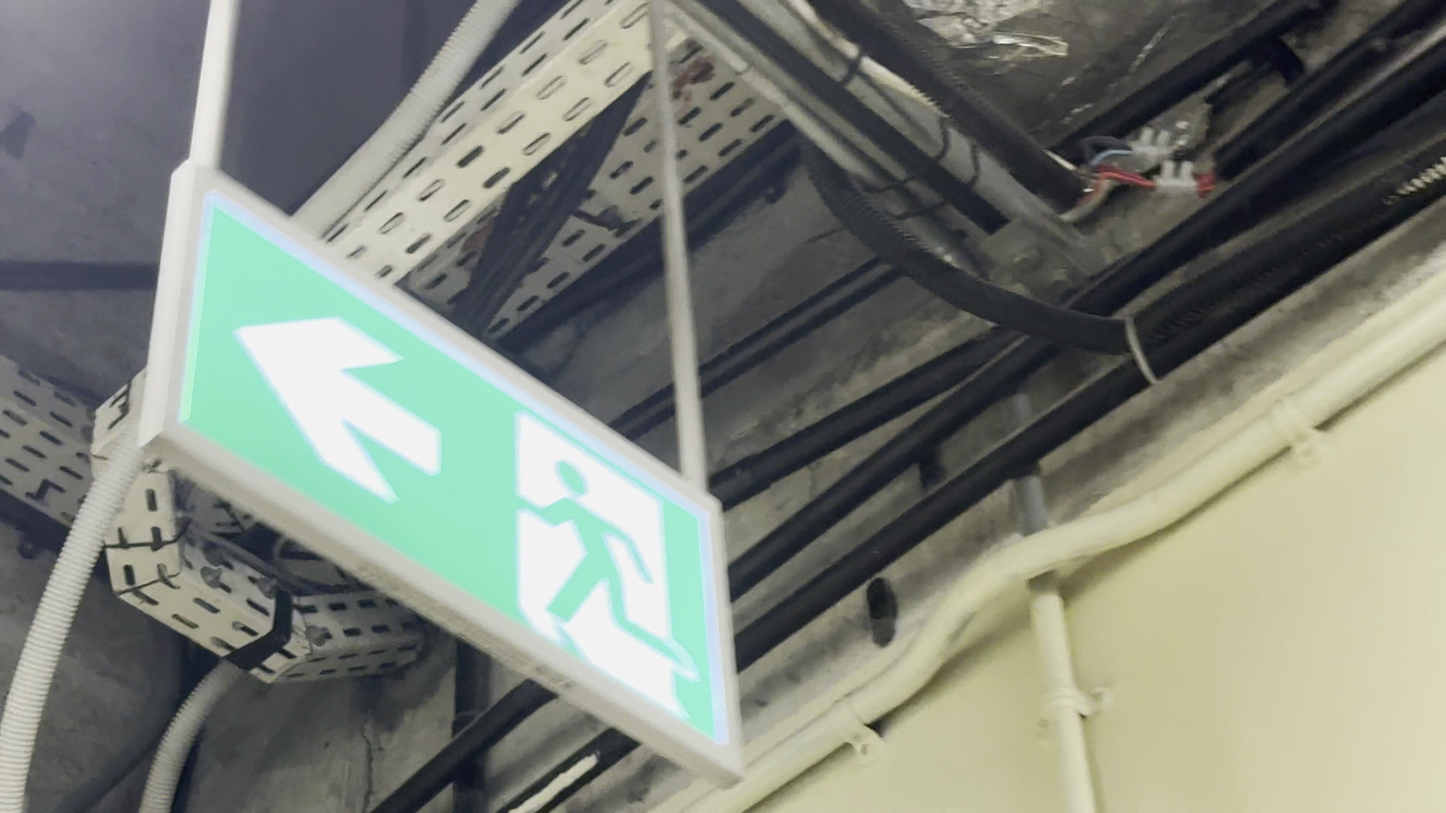emergency_exit: (135, 158, 750, 786)
